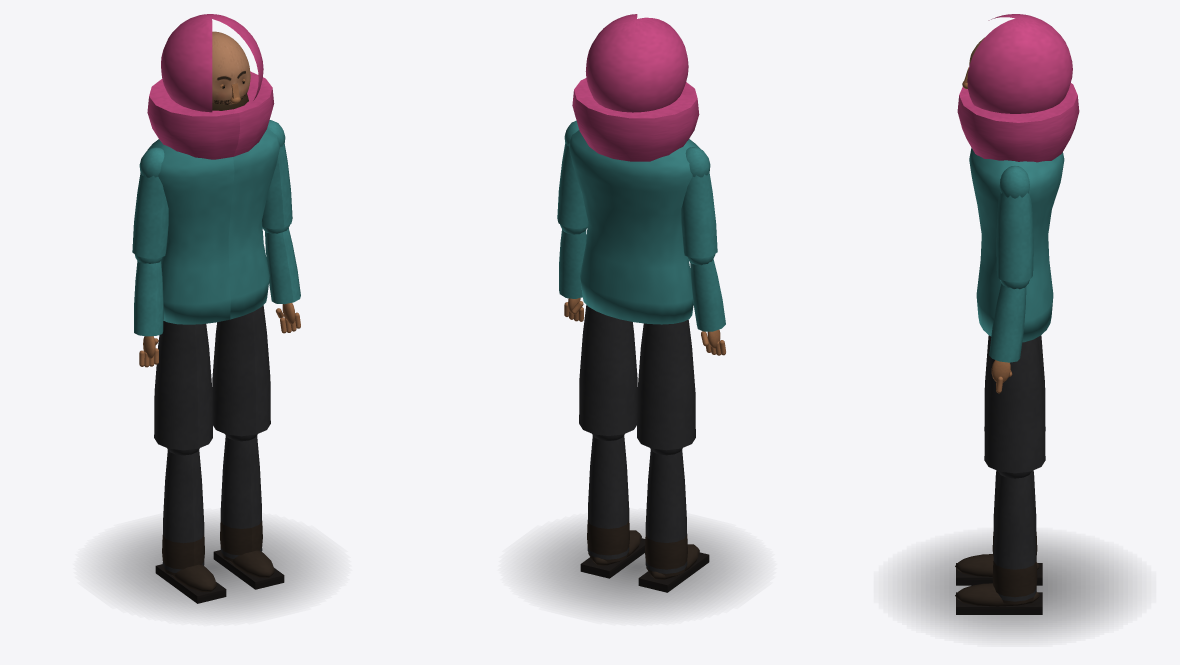
File: npc_whistler.glb
3 views of the same model, side by side, from view 1: azimuth 30°, elevation 25°; view 2: azimuth 150°, elevation 25°; view 3: azimuth 270°, elevation 25° (orthographic). The views are drawn at different scales.
Parts seen in each view (by area): view 1: chest, head, object 11, legL, legR, shinL, shinR, armL, foreL, foreR, armR; view 2: chest, head, object 11, legL, legR, shinL, shinR, armL, foreL, foreR, armR; view 3: head, object 11, chest, shinR, legR, armR, foreR, shinL, legL.
Part boxes in pixels (x1,y1,x2,y2): chest: (147, 128, 280, 324); head: (147, 14, 274, 159); object 11: (101, 520, 323, 613); legL: (154, 321, 212, 450); legR: (212, 305, 270, 436); shinL: (155, 448, 226, 603); shinR: (213, 434, 284, 589); armL: (132, 147, 168, 258); foreL: (134, 254, 163, 367); foreR: (262, 224, 300, 333); armR: (262, 120, 292, 229); chest: (568, 130, 700, 324); head: (572, 14, 699, 161); object 11: (526, 520, 748, 613); legL: (637, 319, 695, 450); legR: (579, 305, 637, 435); shinL: (638, 448, 709, 592); shinR: (580, 434, 645, 578); armL: (681, 147, 717, 258); foreL: (687, 254, 725, 355); foreR: (559, 224, 587, 321); armR: (557, 120, 587, 228); head: (957, 14, 1079, 162); object 11: (902, 540, 1127, 634); chest: (969, 148, 1064, 342); shinR: (955, 471, 1042, 614); legR: (984, 337, 1045, 473); armR: (996, 166, 1033, 282); foreR: (989, 280, 1029, 393); shinL: (955, 470, 1042, 585); legL: (984, 335, 1045, 430).
Bounding box in the file's own units: 0.7986 × 1.68 × 0.7986.
Materials: 5 (4 with a texture image).
